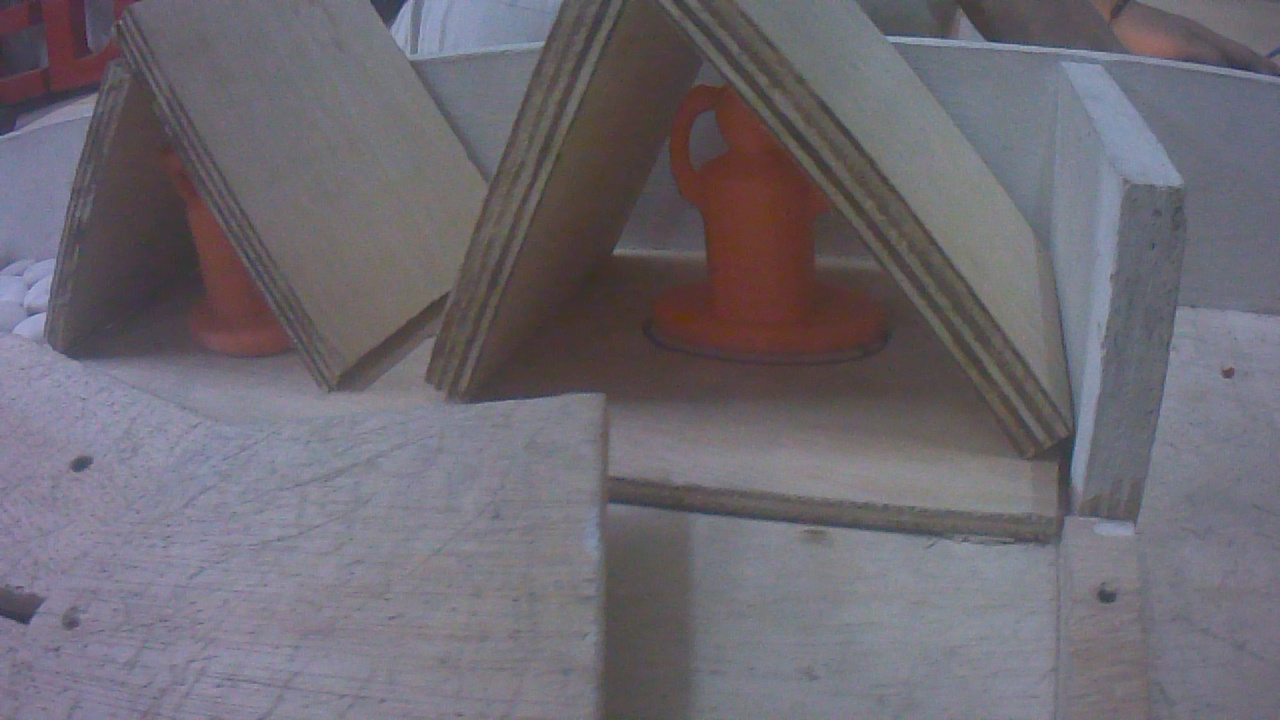real: (638, 64, 887, 363)
